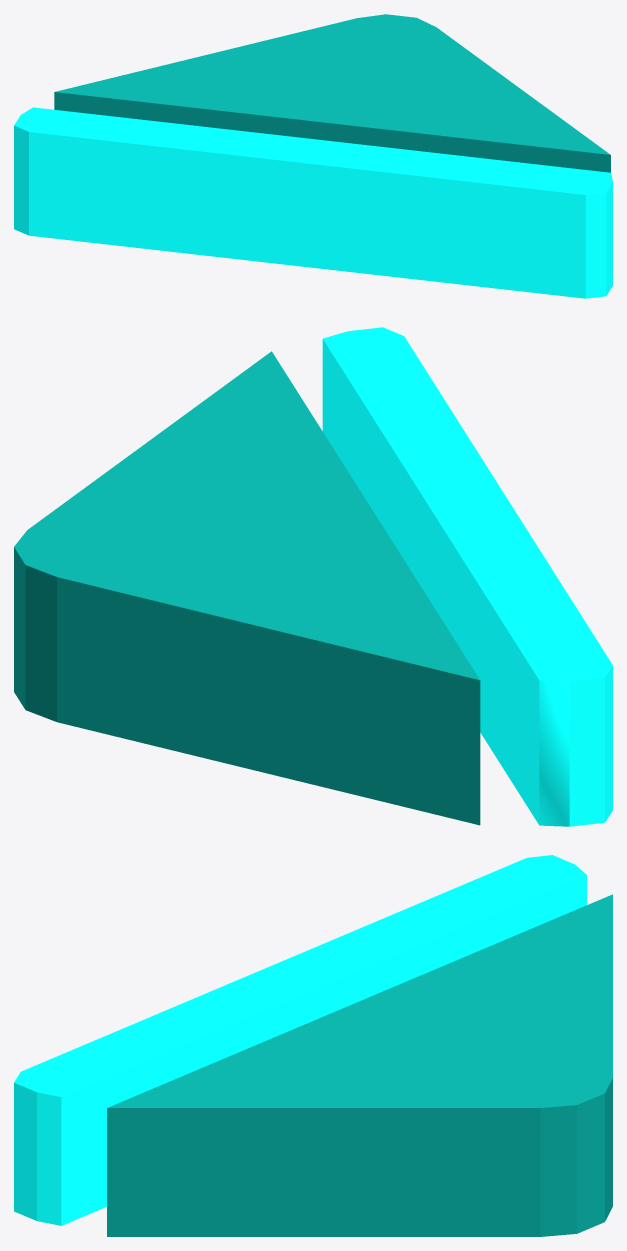
The model's file is silver_pyramid.gltf.
3 renders of one model, top to bottom at view 1: azimuth 30°, elevation 25°; view 2: azimuth 150°, elevation 25°; view 3: azimuth 270°, elevation 25°, orthographic. The views are drawn at different scales.
Visible parts, largest first — view 1: icon_pyramid_silver; view 2: icon_pyramid_silver; view 3: icon_pyramid_silver.
Boxes of the visible parts, <box> form: icon_pyramid_silver: <box>14,14,612,298</box>; icon_pyramid_silver: <box>14,327,612,826</box>; icon_pyramid_silver: <box>14,855,612,1236</box>.
Bounding box in the file's own units: 1.44 × 0.3427 × 1.44.
Materials: 2 (2 with a texture image).
